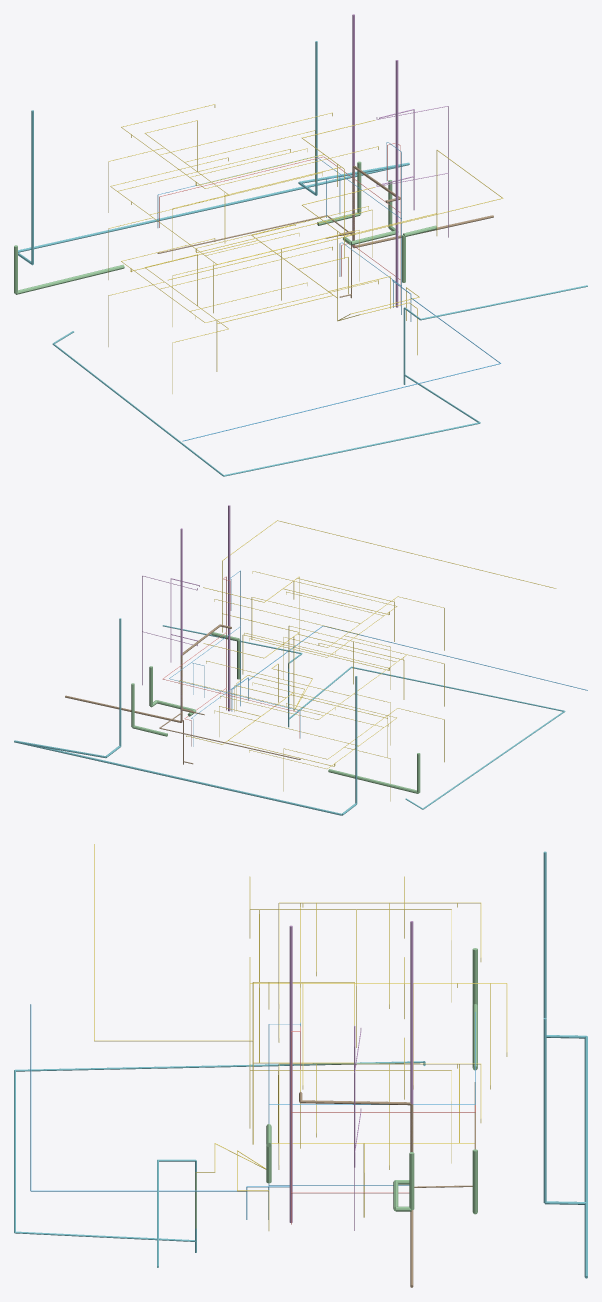
The model's file is Johansson_House_Services.glb.
3 renders of one model, top to bottom at view 1: azimuth 30°, elevation 25°; view 2: azimuth 150°, elevation 25°; view 3: azimuth 270°, elevation 25°, orthographic. The views are drawn at different scales.
Parts seen in each view (by area): view 1: STORM-ROOF-1-SEG-02, HEATER-FLUE-SEG-00, STORM-LIGHTWELL-DRAIN-SEG-02; view 2: STORM-ROOF-1-SEG-02, HEATER-FLUE-SEG-00, SANITARY-VENT-SEG-00, STORM-LIGHTWELL-DRAIN-SEG-02; view 3: HEATER-FLUE-SEG-00, STORM-LIGHTWELL-DRAIN-SEG-01, SANITARY-VENT-SEG-00, STORM-ROOF-2-SEG-00, STORM-ROOF-1-SEG-02, STORM-ROOF-1-SEG-00.
Part boxes in pixels (x1,y1,x2,y2): STORM-ROOF-1-SEG-02: (18,164,409,252); HEATER-FLUE-SEG-00: (395,60,398,307); STORM-LIGHTWELL-DRAIN-SEG-02: (223,422,480,476); STORM-ROOF-1-SEG-02: (14,742,341,815); HEATER-FLUE-SEG-00: (228,505,230,711); SANITARY-VENT-SEG-00: (180,528,182,720); STORM-LIGHTWELL-DRAIN-SEG-02: (351,666,563,711); HEATER-FLUE-SEG-00: (289,925,292,1222); STORM-LIGHTWELL-DRAIN-SEG-01: (15,1061,423,1071); SANITARY-VENT-SEG-00: (410,921,413,1144); STORM-ROOF-2-SEG-00: (543,1018,546,1203); STORM-ROOF-1-SEG-02: (584,1036,587,1278); STORM-ROOF-1-SEG-00: (543,851,546,1017).
Bounding box in the file's own units: 20.5 × 12.3 × 18.08.
